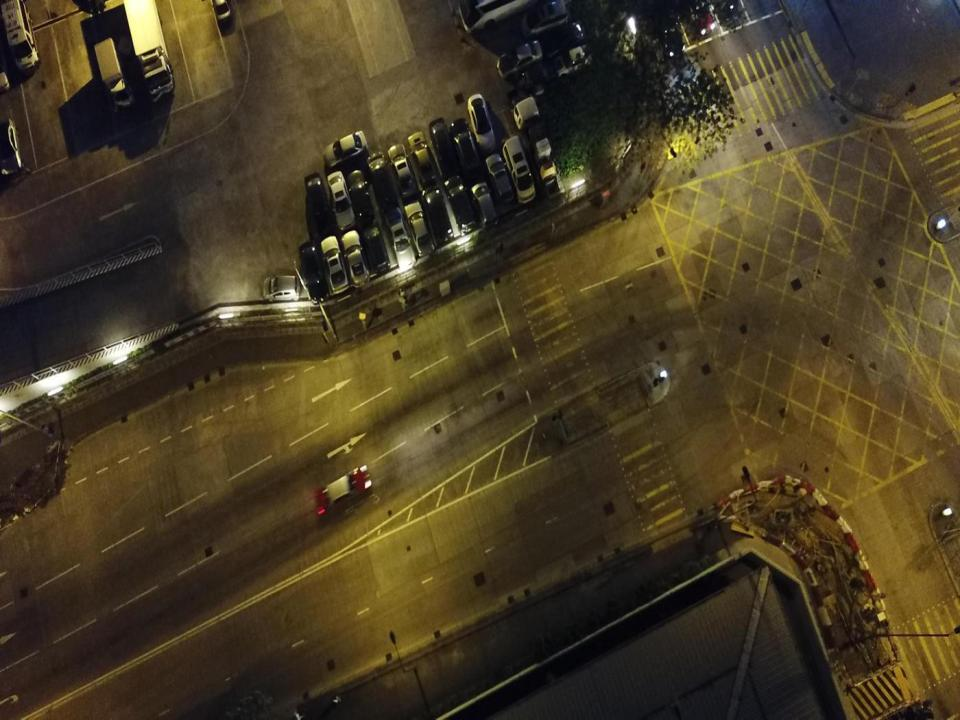car: (316, 464, 372, 515), (298, 241, 330, 305), (304, 170, 334, 237), (385, 207, 416, 268), (450, 116, 482, 175), (326, 169, 356, 231), (467, 93, 498, 153), (366, 151, 396, 212), (320, 236, 350, 296), (341, 230, 371, 290), (388, 143, 419, 201), (429, 116, 458, 177), (408, 131, 439, 188), (404, 201, 435, 258), (444, 176, 476, 231), (497, 41, 542, 80), (521, 0, 569, 36), (541, 19, 587, 56), (362, 219, 391, 276), (485, 153, 516, 204), (347, 169, 375, 223), (656, 9, 686, 58), (554, 43, 594, 78), (0, 117, 23, 176), (516, 63, 556, 95), (471, 181, 498, 228), (263, 274, 301, 302), (688, 0, 716, 36), (212, 0, 231, 26)
truck: (123, 0, 175, 102), (514, 97, 561, 188), (93, 37, 135, 114)
van: (0, 0, 39, 75), (502, 136, 535, 204), (422, 184, 454, 245)
